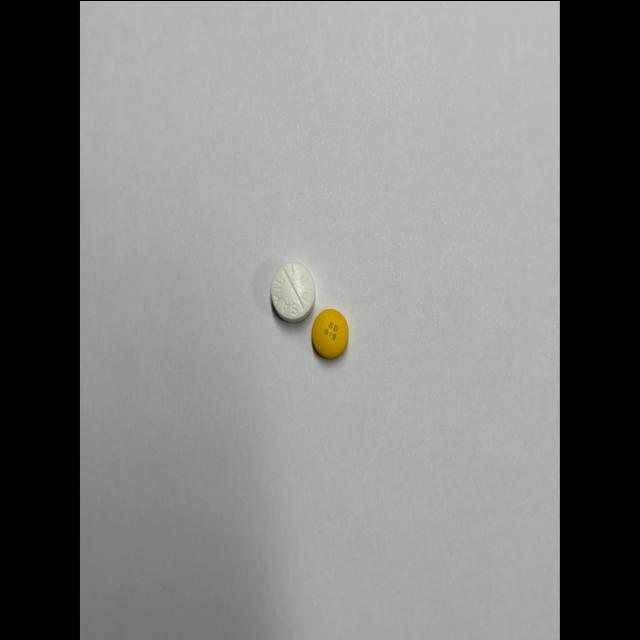Piller: (271, 262, 315, 322), (312, 308, 349, 358)
